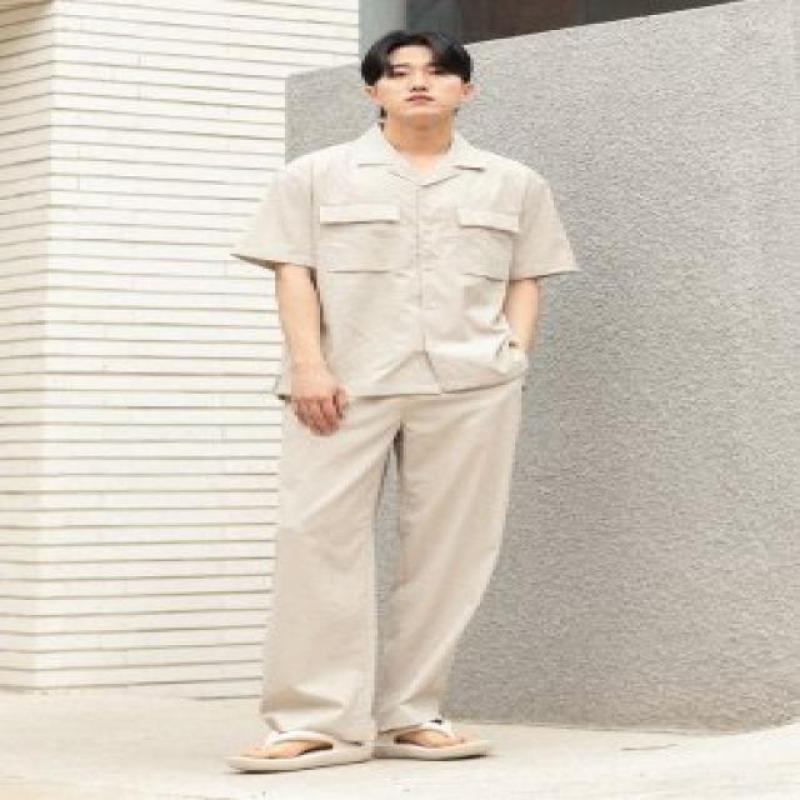short sleeve shirt: (228, 119, 580, 396)
trousers: (257, 375, 527, 741)
